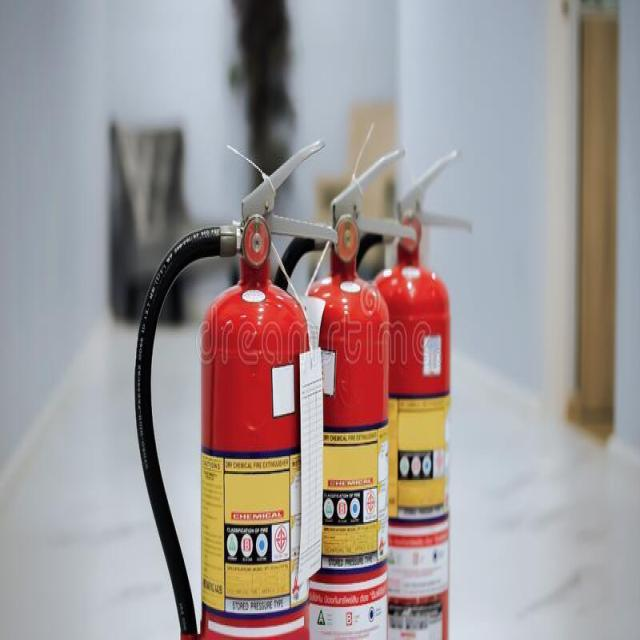fire_extinguisher: (128, 130, 345, 639), (244, 136, 419, 639), (313, 142, 475, 639)
